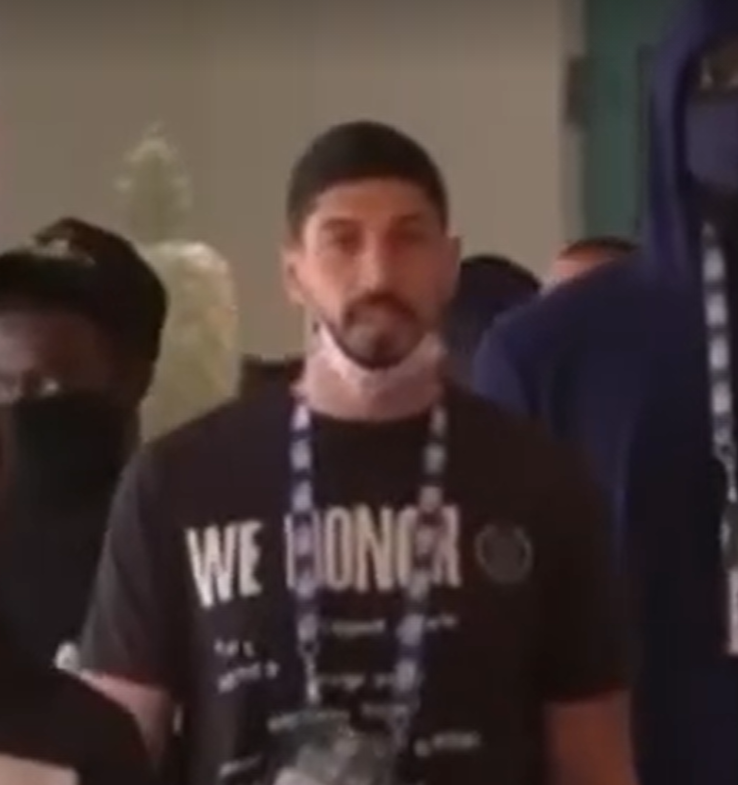mask_weared_incorrect: (276, 171, 470, 401)
